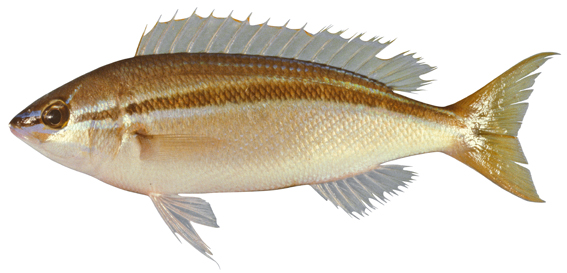fish: (8, 8, 562, 270)
